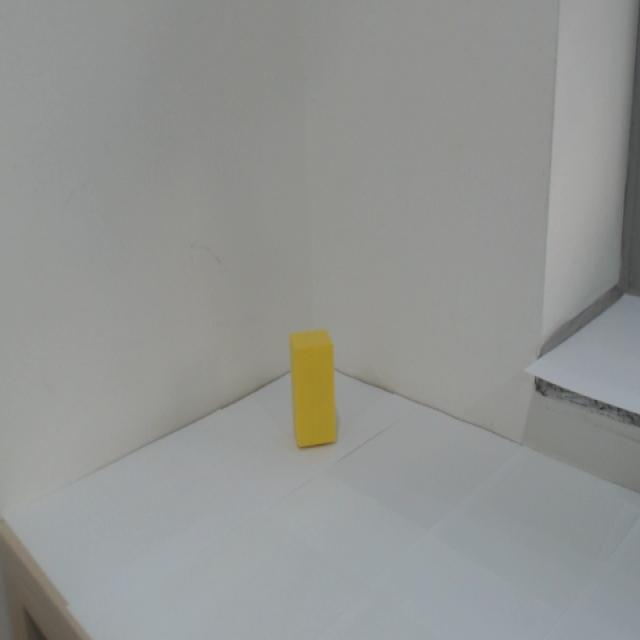cube: (281, 321, 349, 463)
